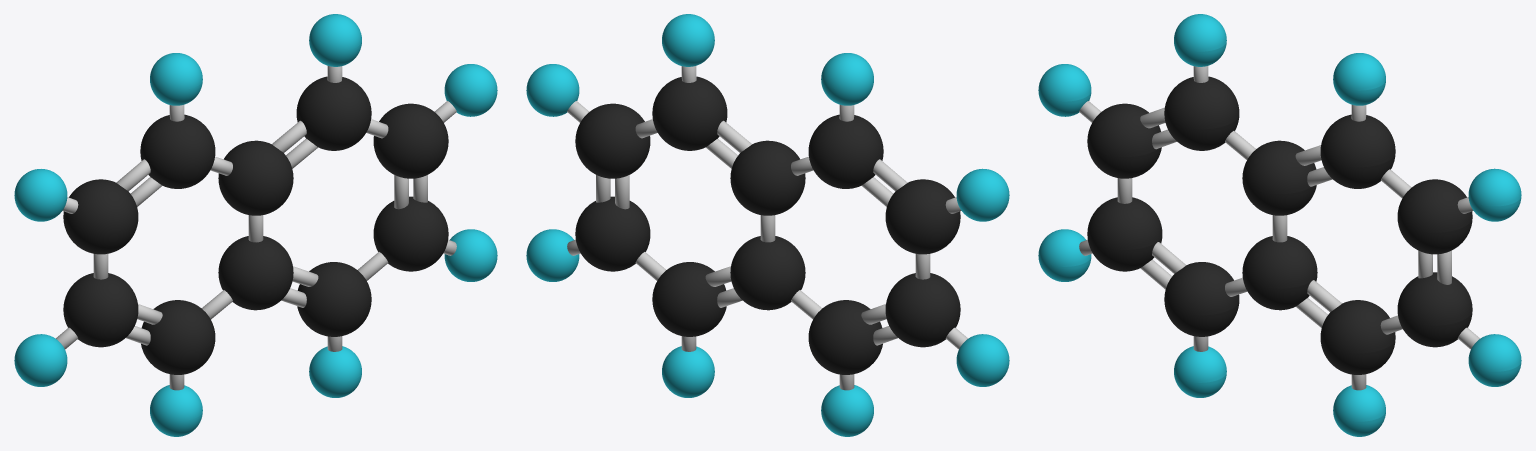
Rendered from Naphthalene.fbx.
3 renders of one model, left to right at view 1: azimuth 30°, elevation 25°; view 2: azimuth 150°, elevation 25°; view 3: azimuth 330°, elevation 25°, orthographic.
Visible parts, largest first — view 1: 1; view 2: 1; view 3: 1.
Part boxes in pixels (x1=…): 1: x1=14, y1=14, x2=497, y2=436; 1: x1=526, y1=14, x2=1009, y2=436; 1: x1=1038, y1=14, x2=1521, y2=436.
Bounding box in the file's own units: 747 × 568 × 102.
